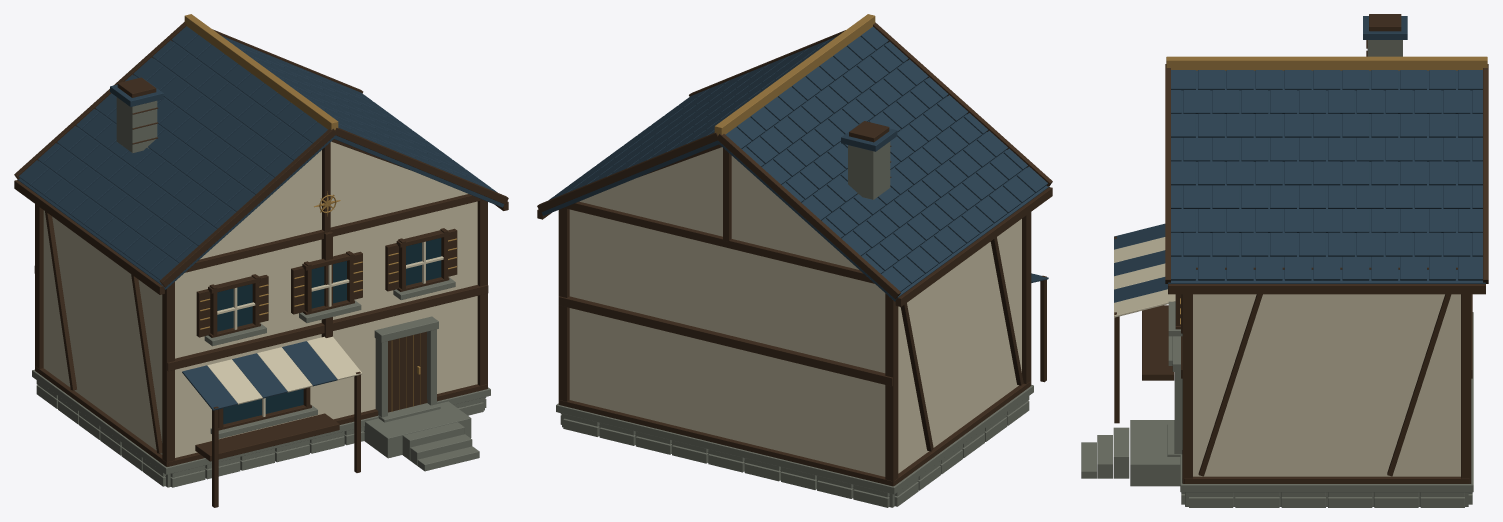
Rendered from House_Merchant_LOD0.fbx.
3 renders of one model, left to right at view 1: azimuth 30°, elevation 25°; view 2: azimuth 150°, elevation 25°; view 3: azimuth 270°, elevation 25°, orthographic. The views are drawn at different scales.
Visible parts, largest first — view 1: House_Merchant_Body; view 2: House_Merchant_Body; view 3: House_Merchant_Body.
Part boxes in pixels (x1,y1,x2,y2): House_Merchant_Body: (14, 14, 508, 507); House_Merchant_Body: (537, 14, 1052, 507); House_Merchant_Body: (1081, 14, 1488, 507).
Bounding box in the file's own units: 9.81 × 8.94 × 9.08.
